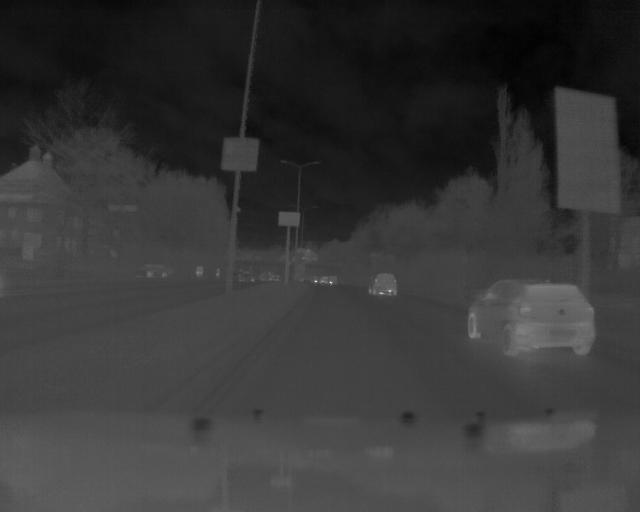car: (464, 279, 598, 355), (368, 273, 399, 298)
